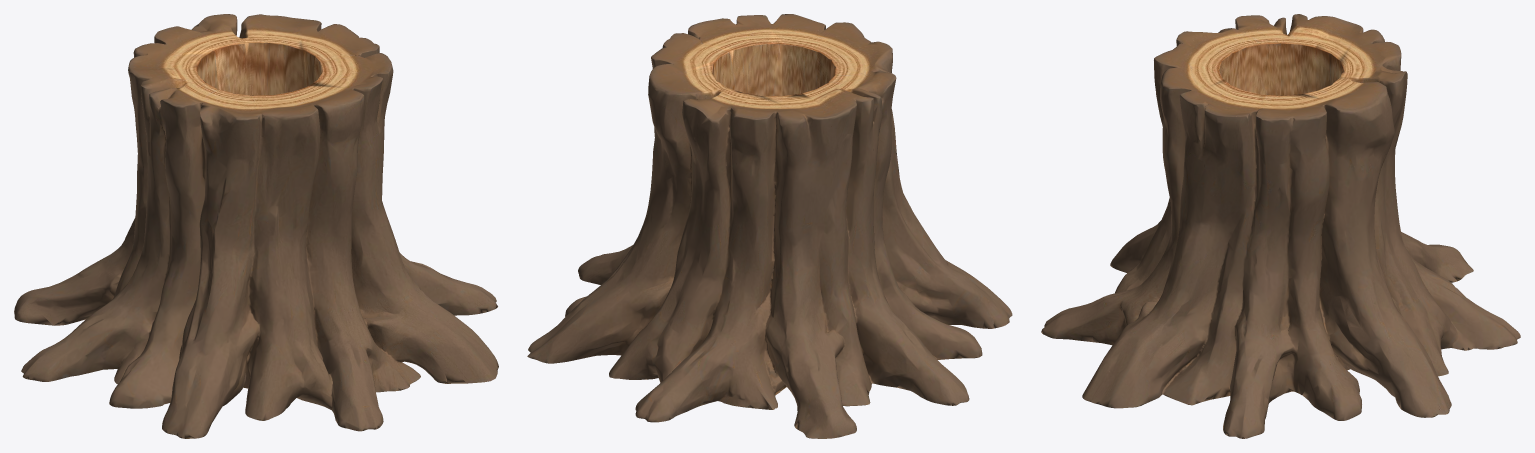
File: treestump-a.glb
3 views of the same model, side by side, from view 1: azimuth 30°, elevation 25°; view 2: azimuth 150°, elevation 25°; view 3: azimuth 270°, elevation 25° (orthographic).
Parts seen in each view (by area): view 1: Mesh_0; view 2: Mesh_0; view 3: Mesh_0.
Boxes of the visible parts, <box> form: Mesh_0: <box>14,14,498,438</box>; Mesh_0: <box>527,14,1012,438</box>; Mesh_0: <box>1041,14,1520,438</box>.
Size of the model in its own units: 1.16 by 0.7 by 1.12.
Materials: 1 (1 with a texture image).
